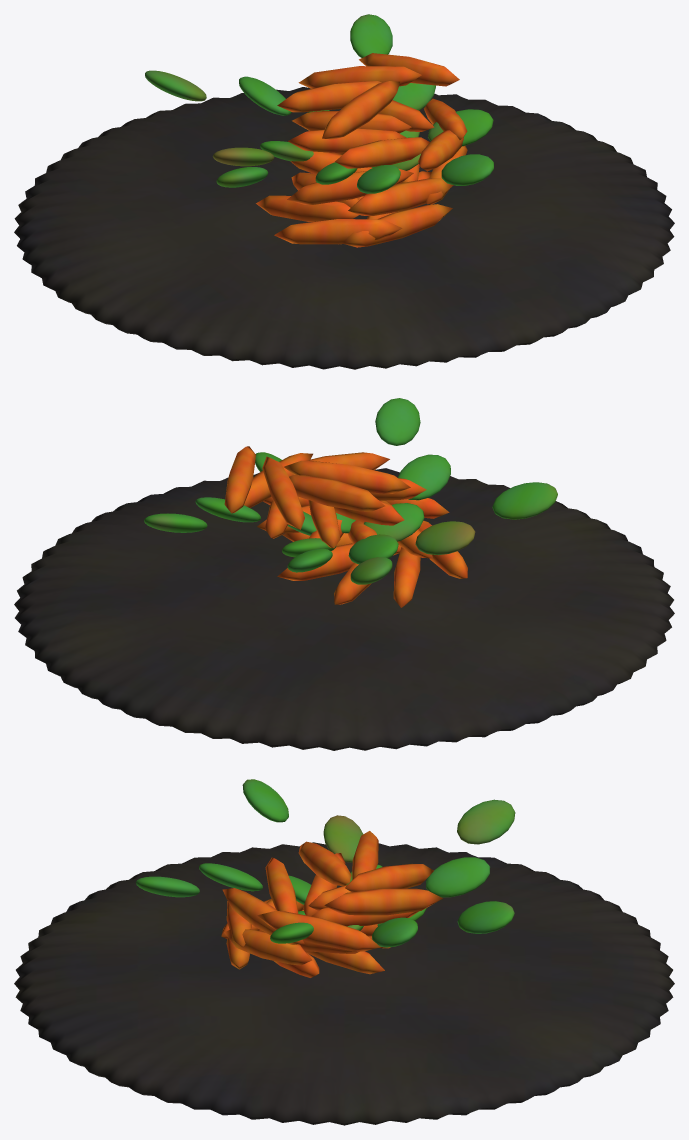
Rendered from golden-chilli-potato-high.glb.
The picture shows the model from 3 angles, top to bottom: view 1: azimuth 30°, elevation 25°; view 2: azimuth 150°, elevation 25°; view 3: azimuth 270°, elevation 25°; orthographic projection.
Parts seen in each view (by area): view 1: Mesh_Porcelain_Appetizer_Platter, Mesh_Honey_Chilli_Potato_Fingers, Mesh_Caramelized_Capsicum_And_Sesame; view 2: Mesh_Porcelain_Appetizer_Platter, Mesh_Honey_Chilli_Potato_Fingers, Mesh_Caramelized_Capsicum_And_Sesame; view 3: Mesh_Porcelain_Appetizer_Platter, Mesh_Honey_Chilli_Potato_Fingers, Mesh_Caramelized_Capsicum_And_Sesame.
Boxes of the visible parts, box(x1,y1,x2,y2) form: Mesh_Porcelain_Appetizer_Platter: box(14, 87, 674, 369); Mesh_Honey_Chilli_Potato_Fingers: box(256, 53, 467, 247); Mesh_Caramelized_Capsicum_And_Sesame: box(145, 14, 493, 193); Mesh_Porcelain_Appetizer_Platter: box(14, 468, 674, 750); Mesh_Honey_Chilli_Potato_Fingers: box(224, 446, 467, 607); Mesh_Caramelized_Capsicum_And_Sesame: box(144, 398, 557, 584); Mesh_Porcelain_Appetizer_Platter: box(14, 842, 674, 1125); Mesh_Honey_Chilli_Potato_Fingers: box(221, 831, 442, 977); Mesh_Caramelized_Capsicum_And_Sesame: box(136, 779, 515, 947).
Bounding box in the file's own units: 2.2 × 0.605 × 2.2.
Materials: 3 (3 with a texture image).
